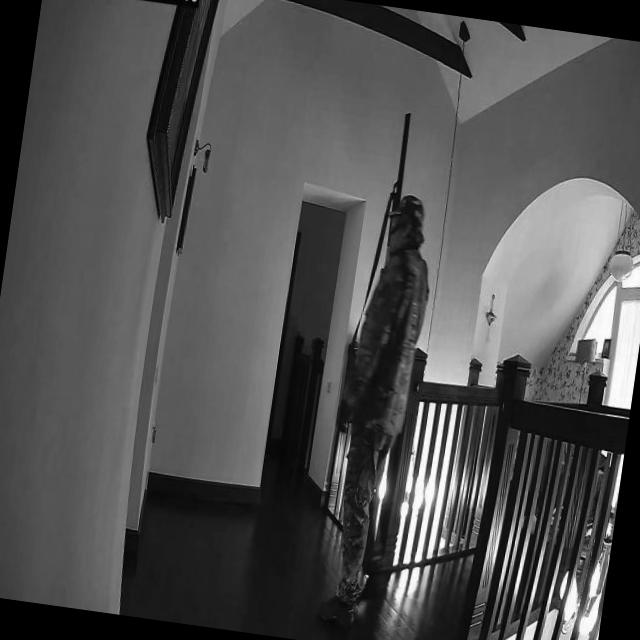gun: (379, 106, 416, 260)
person with a gun: (316, 104, 451, 630)
